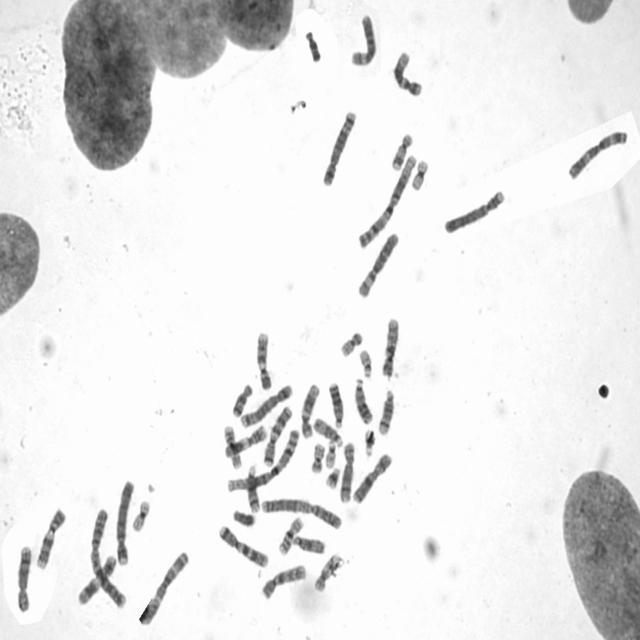A1: (355, 148, 419, 250), (224, 424, 302, 493)
A2: (86, 504, 127, 610), (256, 492, 344, 530)
A3: (564, 124, 630, 181), (143, 546, 191, 622)
B4: (441, 184, 506, 236), (112, 475, 137, 566)
B5: (319, 105, 358, 188), (237, 379, 294, 429)
C10: (258, 559, 307, 601), (378, 312, 400, 379)
C11: (74, 550, 117, 606), (221, 420, 268, 459)
C12: (389, 46, 424, 98), (297, 379, 321, 440)
C6: (354, 227, 400, 299), (347, 8, 378, 67)
C7: (215, 520, 270, 568), (260, 400, 294, 468)
C8: (13, 540, 33, 613), (336, 437, 357, 504)
C9: (32, 504, 67, 570), (252, 326, 274, 392)
D13: (351, 372, 374, 425), (325, 376, 345, 429)
D14: (374, 384, 396, 436), (243, 460, 263, 514)
D15: (310, 413, 344, 448), (290, 531, 326, 555)
E16: (275, 512, 305, 556), (220, 420, 244, 470)
E17: (311, 548, 344, 594), (388, 128, 414, 172)
E18: (228, 378, 254, 418), (301, 25, 322, 64)
F19: (128, 495, 152, 533), (408, 155, 430, 192)
F20: (336, 326, 365, 358), (307, 438, 326, 475)
G21: (322, 461, 342, 490), (360, 424, 377, 458)
G22: (356, 345, 374, 379), (322, 436, 338, 469)
X: (349, 448, 394, 505)
Y: (230, 504, 256, 528)
